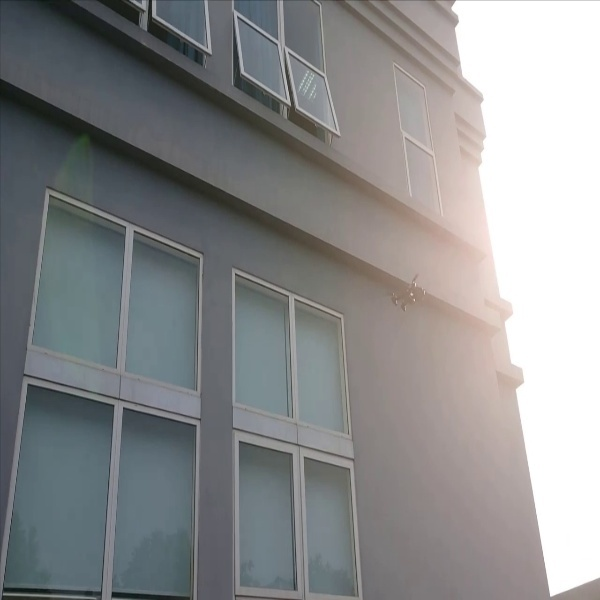drone: (377, 268, 432, 319)
